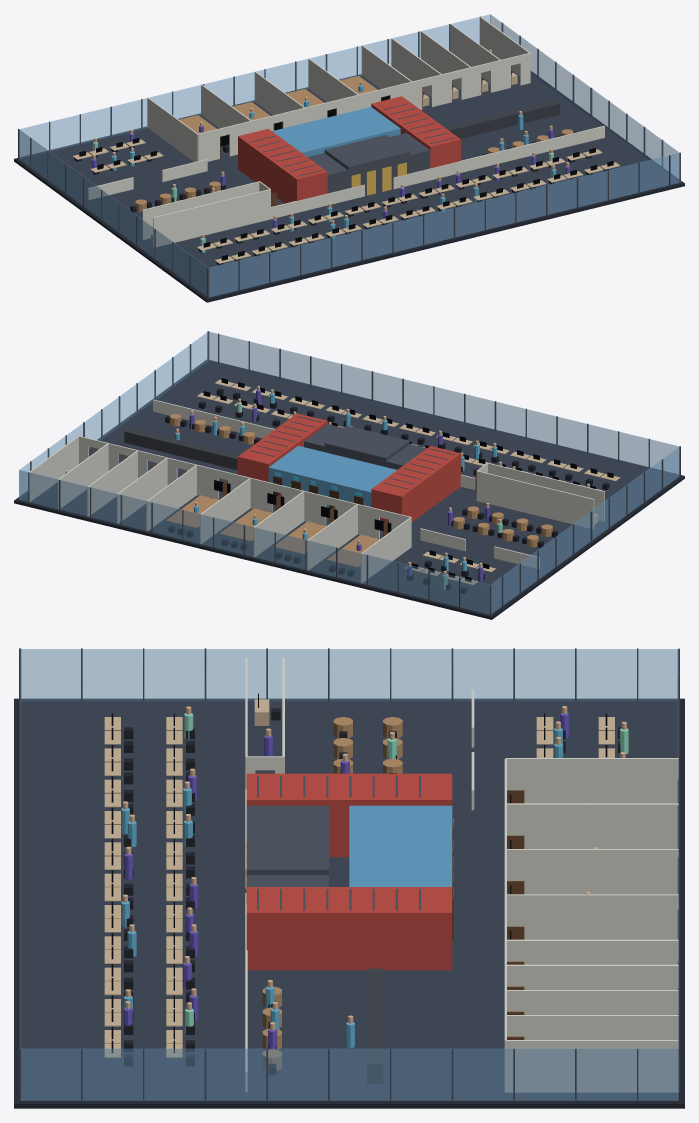
3 renders of one model, top to bottom at view 1: azimuth 30°, elevation 25°; view 2: azimuth 150°, elevation 25°; view 3: azimuth 270°, elevation 25°, orthographic. The views are drawn at different scales.
Parts seen in each view (by area): view 1: L30_floor_carpet, L30_glass, L30_wall, L30_core, L30_stair, L30_desk, L30_slab, L30_wash, L30_screen, L30_table, L30_counter, L30_chair (+4 smaller); view 2: L30_glass, L30_floor_carpet, L30_wall, L30_core, L30_stair, L30_slab, L30_table, L30_wash, L30_chair, L30_desk, L30_screen, L30_counter (+3 smaller); view 3: L30_floor_carpet, L30_glass, L30_wall, L30_stair, L30_core, L30_desk, L30_slab, L30_wash, L30_chair, L30_table, L30_role_manager, L30_role_analyst (+5 smaller).
Boxes of the visible parts, <box> form: L30_floor_carpet: <box>19,70,679,297</box>; L30_glass: <box>19,14,679,296</box>; L30_wall: <box>88,17,604,247</box>; L30_core: <box>18,16,680,298</box>; L30_stair: <box>238,96,460,203</box>; L30_desk: <box>72,73,620,263</box>; L30_slab: <box>14,71,684,302</box>; L30_wash: <box>272,107,400,156</box>; L30_screen: <box>79,71,613,260</box>; L30_table: <box>135,76,573,211</box>; L30_counter: <box>444,100,559,138</box>; L30_chair: <box>74,78,609,265</box>; L30_glass: <box>19,331,679,614</box>; L30_floor_carpet: <box>19,361,679,614</box>; L30_wall: <box>28,399,604,583</box>; L30_core: <box>28,331,680,615</box>; L30_stair: <box>238,413,460,522</box>; L30_slab: <box>14,360,684,619</box>; L30_table: <box>166,414,552,567</box>; L30_wash: <box>268,445,396,507</box>; L30_chair: <box>165,388,609,593</box>; L30_desk: <box>197,379,620,585</box>; L30_screen: <box>203,378,613,581</box>; L30_counter: <box>124,428,239,469</box>; L30_floor_carpet: <box>21,700,678,1101</box>; L30_glass: <box>20,649,678,1100</box>; L30_wall: <box>245,657,678,1092</box>; L30_stair: <box>246,773,452,970</box>; L30_core: <box>19,648,679,1101</box>; L30_desk: <box>104,699,614,1057</box>; L30_slab: <box>14,698,684,1108</box>; L30_wash: <box>349,805,452,886</box>; L30_chair: <box>124,708,627,1075</box>; L30_table: <box>262,717,402,1070</box>; L30_role_manager: <box>123,712,569,1049</box>; L30_role_analyst: <box>121,728,563,1048</box>.
Size of the model in its own units: 46.6 by 3.37 by 32.6.
